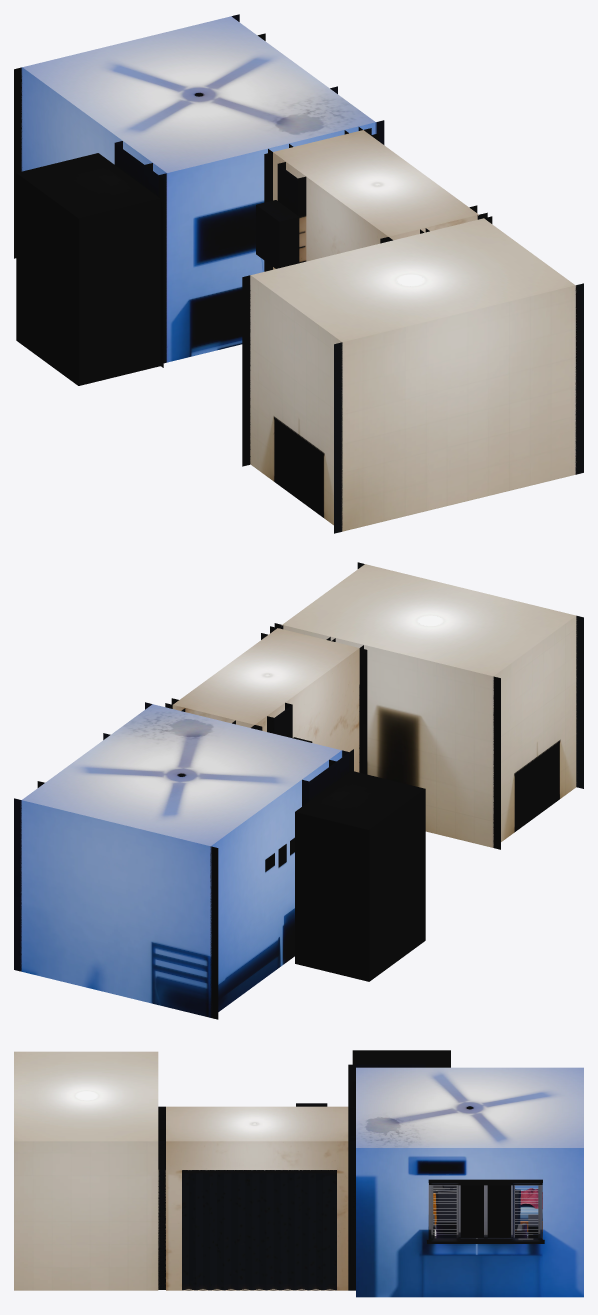
File: casa-4096.glb
3 views of the same model, one above another, from view 1: azimuth 30°, elevation 25°; view 2: azimuth 150°, elevation 25°; view 3: azimuth 270°, elevation 25° (orthographic). The views are drawn at different scales.
Parts seen in each view (by area): view 1: casa_estrutura; view 2: casa_estrutura; view 3: casa_estrutura, casa_moveis.
Part boxes in pixels (x1,y1,x2,y2): casa_estrutura: (14,14,583,533); casa_estrutura: (14,562,583,1019); casa_estrutura: (14,1050,583,1297); casa_moveis: (427,1179,544,1243).
Bounding box in the file's own units: 4.42 × 2.6 × 9.
Materials: 2 (2 with a texture image).
